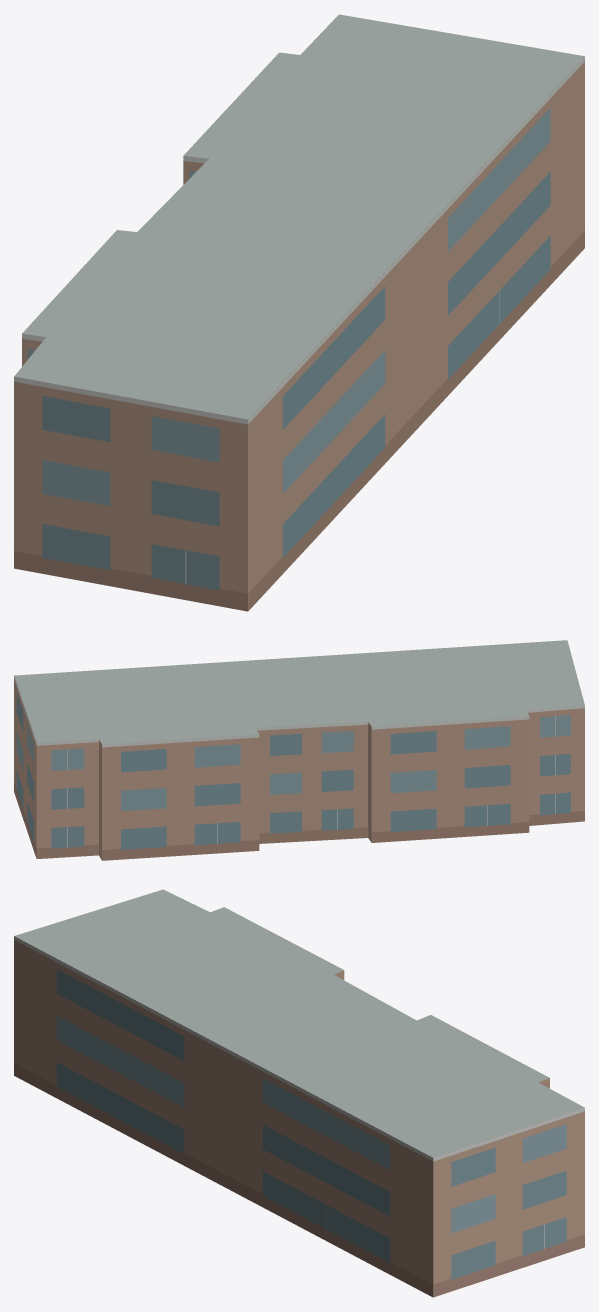
Rendered from survey-upis-32620201.glb.
The picture shows the model from 3 angles, top to bottom: view 1: azimuth 30°, elevation 25°; view 2: azimuth 150°, elevation 25°; view 3: azimuth 270°, elevation 25°; orthographic projection. The views are drawn at different scales.
Visible parts, largest first — view 1: survey-upis-32620201.tmp; view 2: survey-upis-32620201.tmp; view 3: survey-upis-32620201.tmp.
Boxes of the visible parts, x1=… form: survey-upis-32620201.tmp: x1=14, y1=14, x2=584, y2=611; survey-upis-32620201.tmp: x1=14, y1=640, x2=584, y2=860; survey-upis-32620201.tmp: x1=14, y1=889, x2=584, y2=1297.
Bounding box in the file's own units: 37.72 × 9.15 × 33.9.
